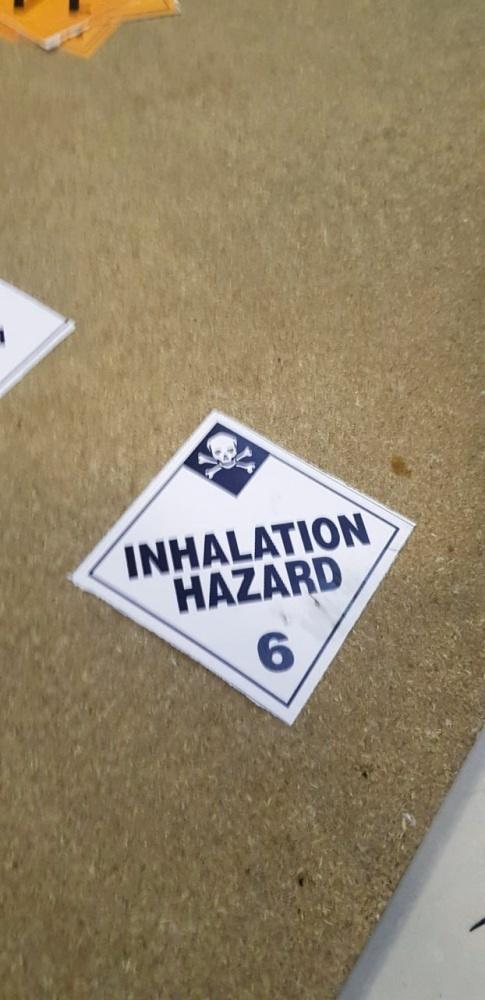poison: (77, 408, 415, 721)
